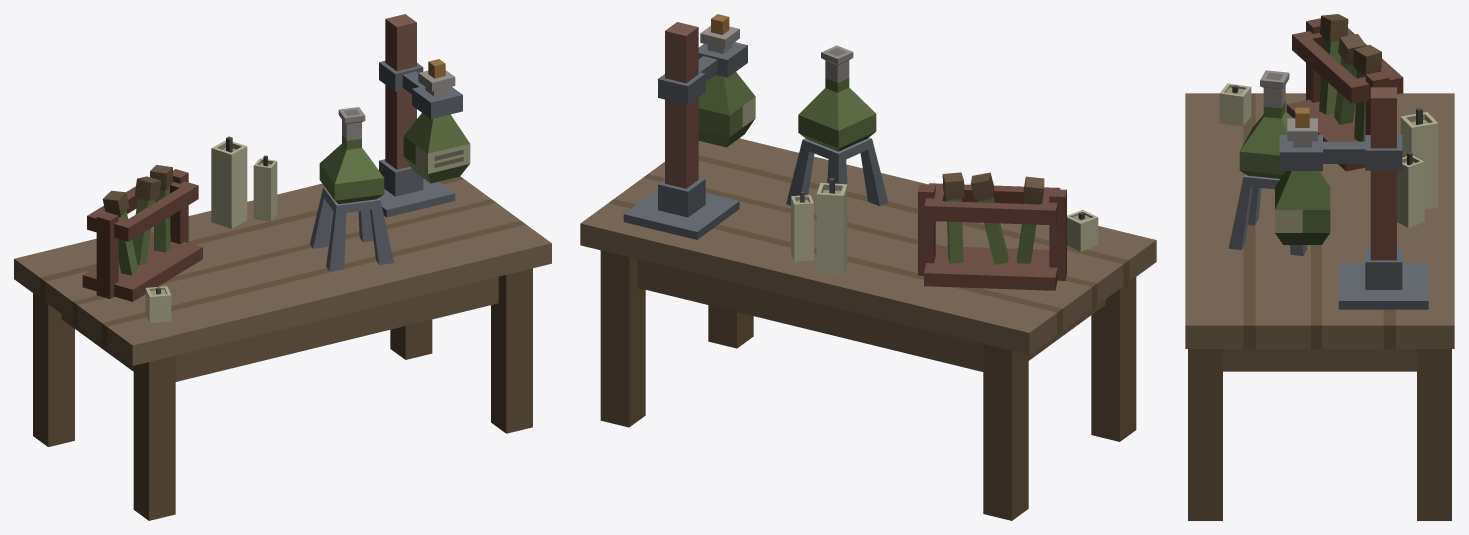
The model's file is SD_Prop_AlchemyTable_01.fbx.
3 renders of one model, left to right at view 1: azimuth 30°, elevation 25°; view 2: azimuth 150°, elevation 25°; view 3: azimuth 270°, elevation 25°, orthographic. The views are drawn at different scales.
Visible parts, largest first — view 1: SD_Prop_AlchemyTable_01; view 2: SD_Prop_AlchemyTable_01; view 3: SD_Prop_AlchemyTable_01.
Boxes of the visible parts, x1=… form: SD_Prop_AlchemyTable_01: x1=14, y1=14, x2=551, y2=520; SD_Prop_AlchemyTable_01: x1=580, y1=14, x2=1156, y2=520; SD_Prop_AlchemyTable_01: x1=1185, y1=14, x2=1454, y2=520.
Bounding box in the file's own units: 3.93 × 3.18 × 1.93.
